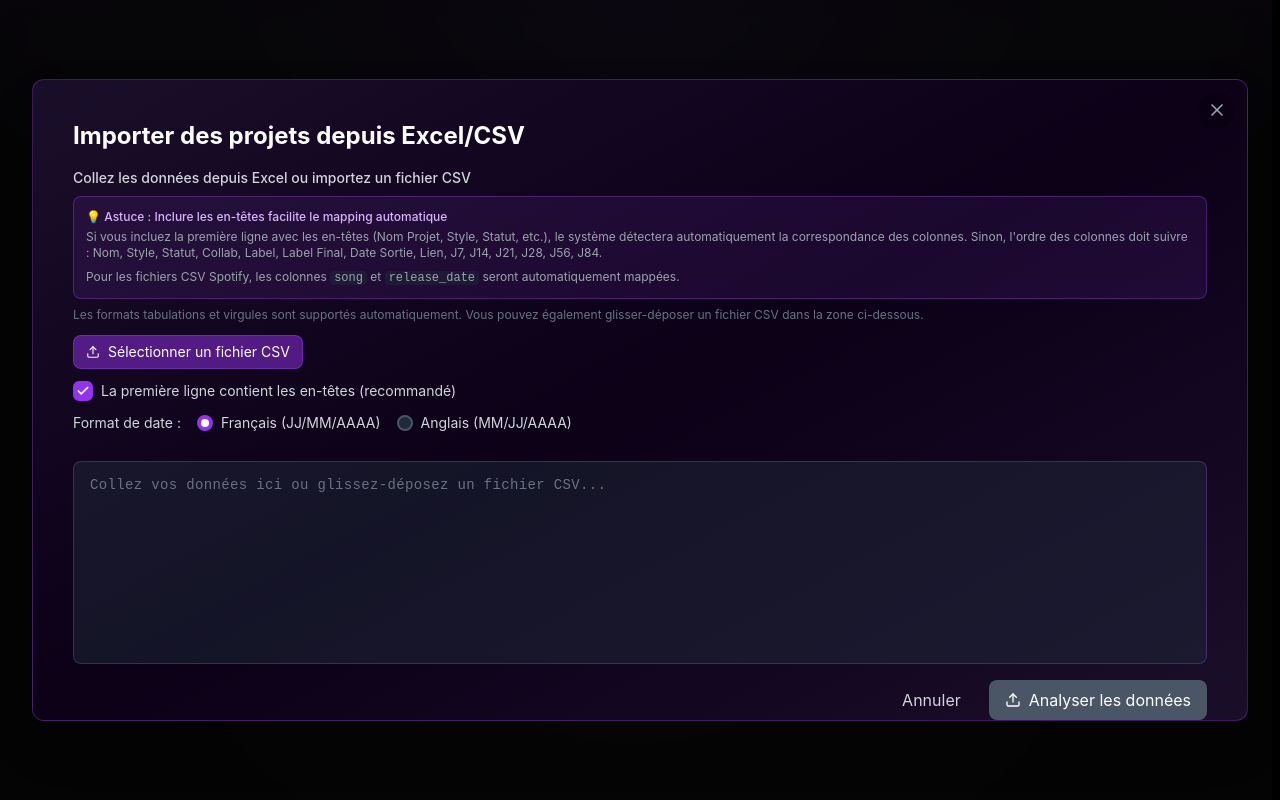
Test: ImportProjectsDialog › should handle text paste and analysis
# Paste text
Type "Project 1,Techno,EN_COURS" into the text box. click: [640, 562]
box: [73,461,1207,664]
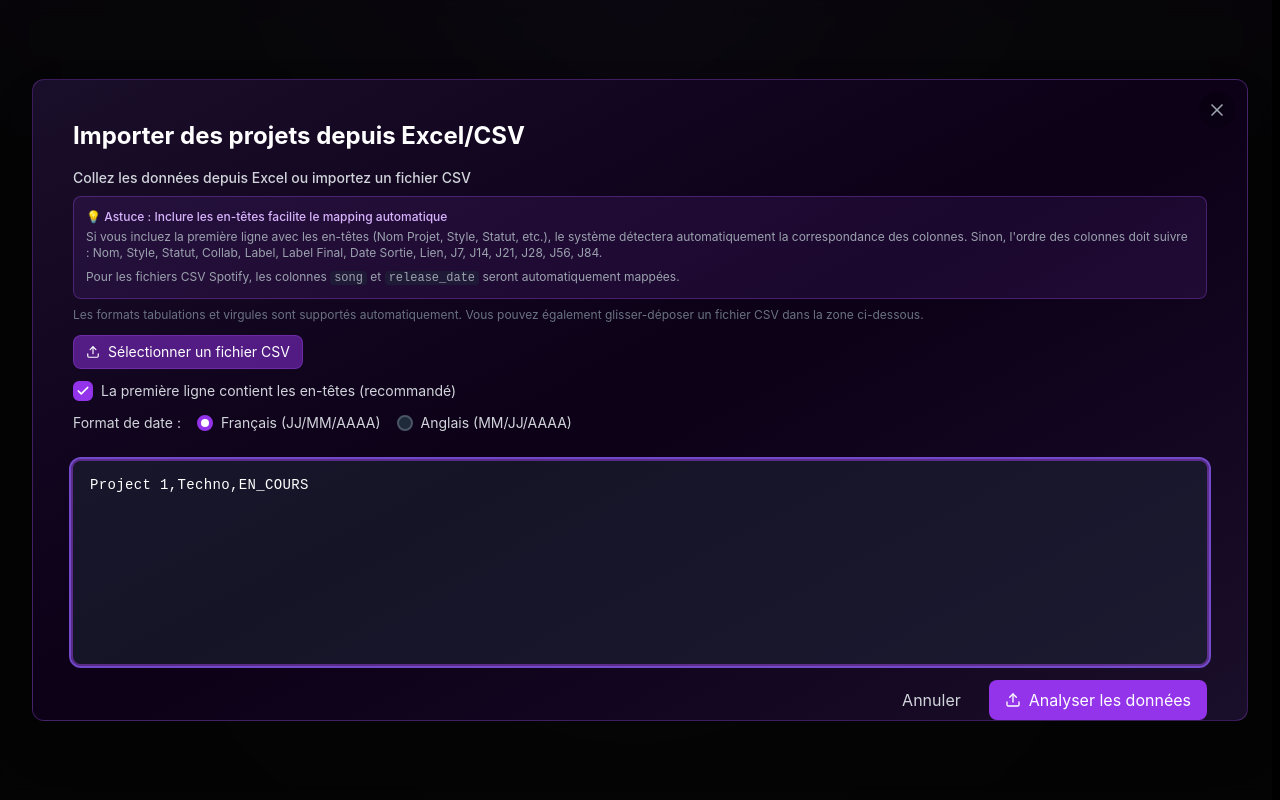
# Click Analyser
Click the button "Analyser les données". click: [1098, 700]
box: [989,680,1207,720]
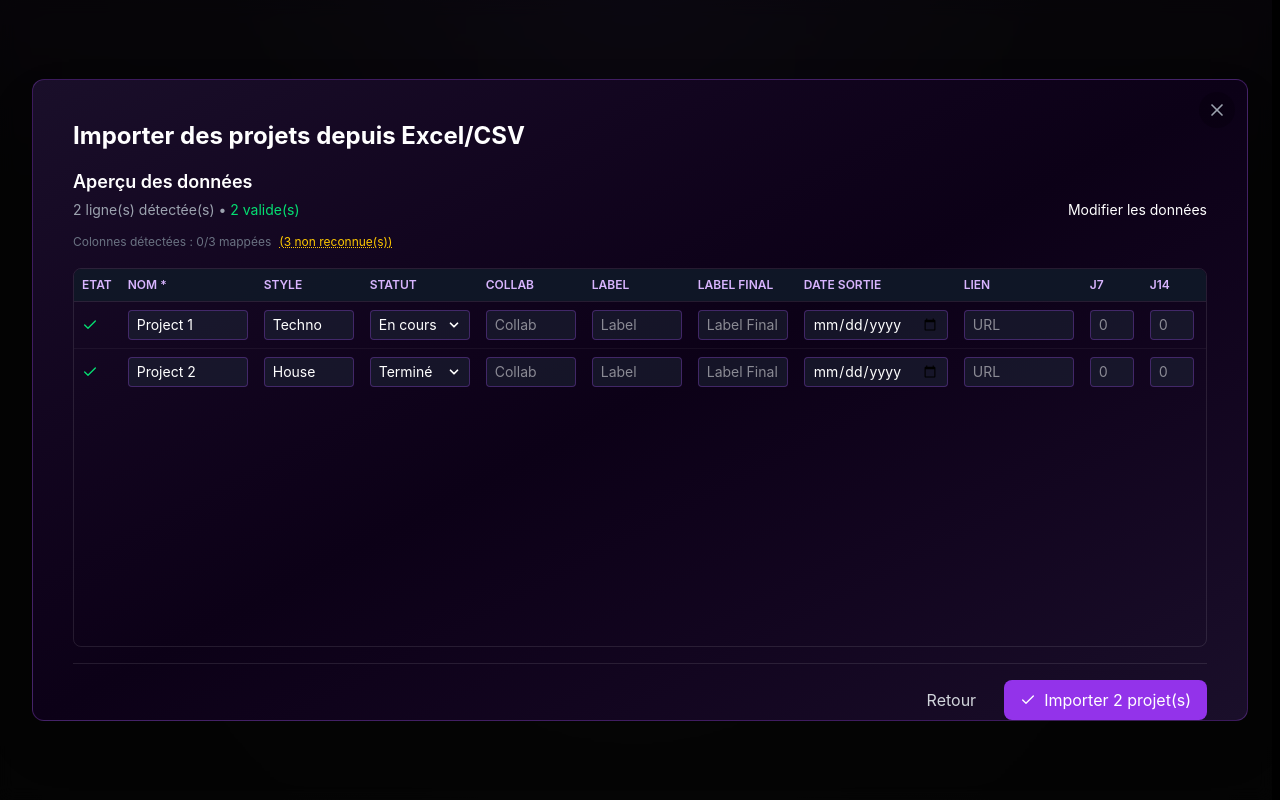
Expected: the heading "Aperçu des données" is shown, [73,171,252,192]
Expected: the 1st field showing "Project 1" is shown, [128,310,248,340]
Expected: the 3rd field showing "Project 2" is shown, [128,357,248,387]
